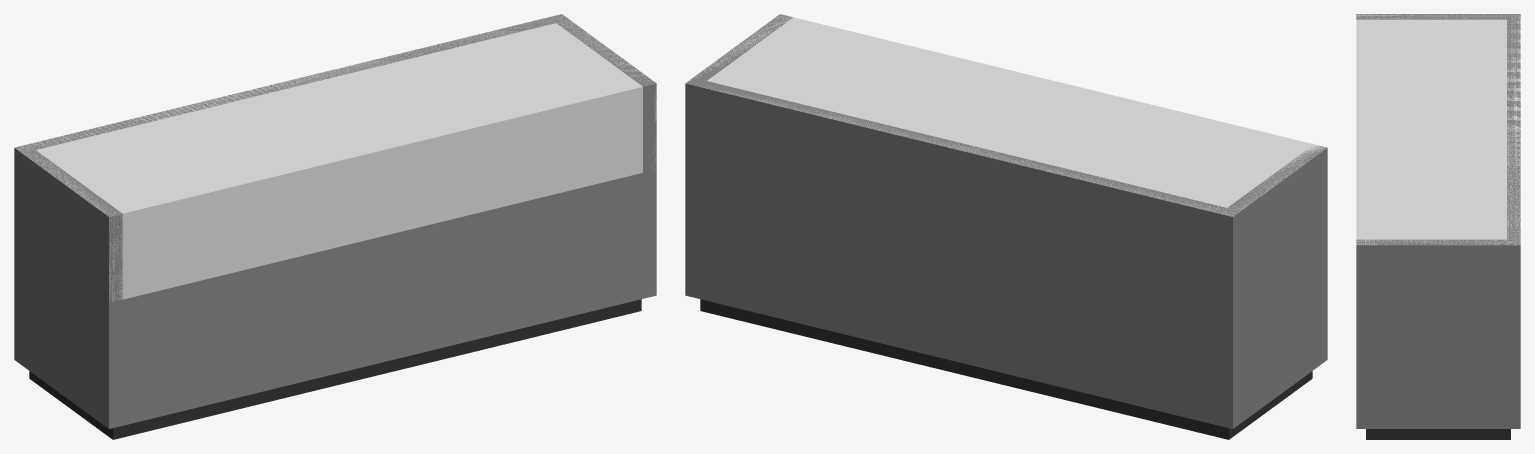
The model's file is SM_Props_Interior_Shop_Gun_DisplayDesk.fbx.
3 views of the same model, side by side, from view 1: azimuth 30°, elevation 25°; view 2: azimuth 150°, elevation 25°; view 3: azimuth 270°, elevation 25° (orthographic). The views are drawn at different scales.
Visible parts, largest first — view 1: SM_Props_Interior_Shop_Gun_DisplayDesk; view 2: SM_Props_Interior_Shop_Gun_DisplayDesk; view 3: SM_Props_Interior_Shop_Gun_DisplayDesk.
Boxes of the visible parts, x1,y1,x2,y2 form: SM_Props_Interior_Shop_Gun_DisplayDesk: [14, 14, 656, 439]; SM_Props_Interior_Shop_Gun_DisplayDesk: [685, 14, 1327, 439]; SM_Props_Interior_Shop_Gun_DisplayDesk: [1356, 14, 1520, 439].
Bounding box in the file's own units: 200 × 80 × 60.
